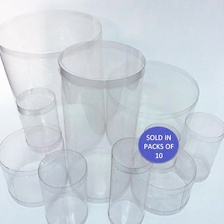plastic_box: (53, 33, 150, 207), (0, 2, 106, 106), (100, 56, 204, 153), (0, 121, 69, 211), (127, 140, 200, 219), (103, 133, 158, 223), (33, 144, 93, 224), (170, 108, 224, 185), (12, 83, 66, 155)
